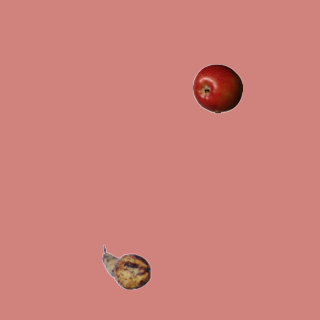Apple Braeburn: (192, 63, 242, 113)
Pear Abate: (101, 242, 151, 292)
